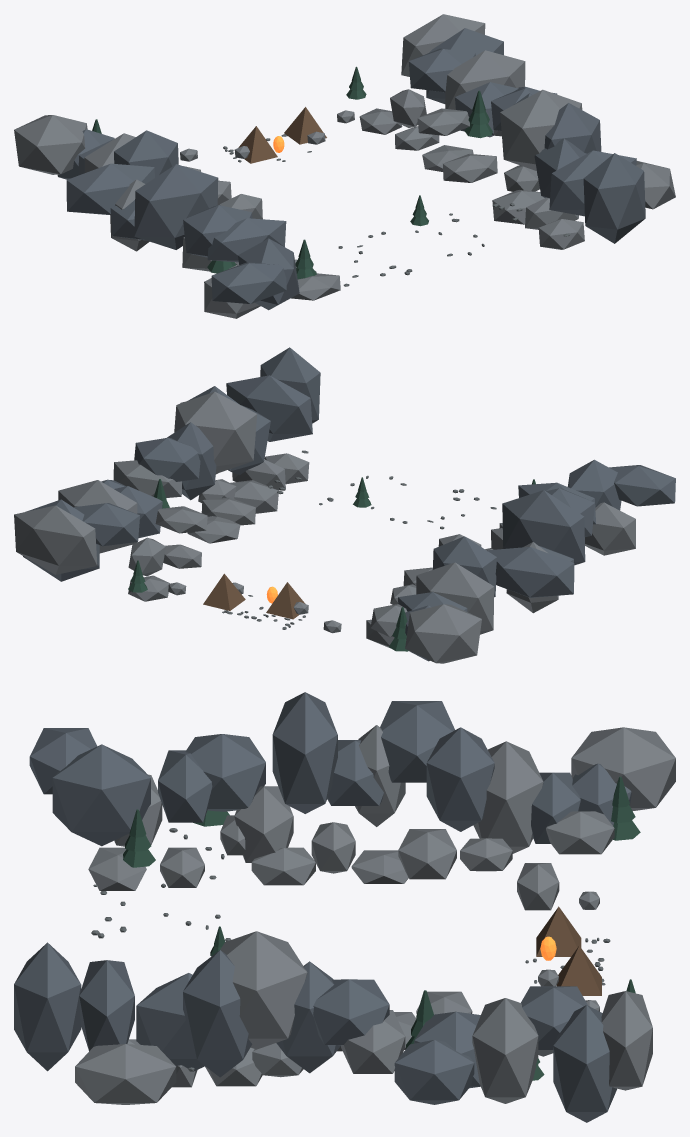
File: cathedral_ground_slice.glb
The picture shows the model from 3 angles, top to bottom: view 1: azimuth 30°, elevation 25°; view 2: azimuth 150°, elevation 25°; view 3: azimuth 270°, elevation 25°; orthographic projection. The views are drawn at different scales.
Parts seen in each view (by area): view 1: massive cliff.008, massive cliff.029, massive cliff, massive cliff.024, massive cliff.005, massive cliff.014, massive cliff.018, massive cliff.028, massive cliff.011, massive cliff.015, massive cliff.010, massive cliff.004 (+28 smaller); view 2: massive cliff.015, massive cliff.008, massive cliff.024, massive cliff, massive cliff.028, massive cliff.005, massive cliff.003, massive cliff.022, massive cliff.014, massive cliff.029, massive cliff.012, massive cliff.017 (+25 smaller); view 3: massive cliff.013, massive cliff.024, massive cliff.029, massive cliff.008, massive cliff.025, massive cliff.018, massive cliff, massive cliff.016, massive cliff.004, massive cliff.027, massive cliff.003, massive cliff.005 (+33 smaller).
Part boxes in pixels (box(x1,y1,x2,y2)): massive cliff.008: box(134, 164, 218, 249); massive cliff.029: box(583, 153, 645, 243); massive cliff: box(14, 115, 87, 174); massive cliff.024: box(500, 89, 582, 170); massive cliff.005: box(66, 163, 154, 214); massive cliff.014: box(211, 262, 286, 303); massive cliff.018: box(445, 50, 525, 109); massive cliff.028: box(549, 150, 636, 216); massive cliff.011: box(207, 218, 286, 262); massive cliff.015: box(401, 14, 485, 76); massive cliff.010: box(183, 205, 252, 257); massive cliff.004: box(114, 130, 178, 177); massive cliff.015: box(14, 505, 97, 574); massive cliff.008: box(502, 490, 585, 565); massive cliff.024: box(174, 391, 257, 473); massive cliff: box(405, 604, 481, 663); massive cliff.028: box(226, 375, 312, 441); massive cliff.005: box(487, 547, 574, 597); massive cliff.003: box(416, 562, 494, 634); massive cliff.022: box(134, 437, 200, 481); massive cliff.014: box(609, 465, 675, 506); massive cliff.029: box(260, 347, 320, 423); massive cliff.012: box(585, 502, 635, 555); massive cliff.017: box(74, 503, 139, 546); massive cliff.013: box(52, 744, 150, 846); massive cliff.024: box(220, 931, 307, 1049); massive cliff.029: box(14, 942, 81, 1071); massive cliff.008: box(272, 692, 337, 813); massive cliff.025: box(183, 950, 252, 1077); massive cliff.018: box(472, 998, 538, 1103); massive cliff: box(571, 727, 675, 810); massive cliff.016: box(553, 1005, 616, 1122); massive cliff.004: box(426, 727, 494, 831); massive cliff.027: box(75, 1044, 176, 1104); massive cliff.003: box(473, 741, 543, 853); massive cliff.005: box(380, 701, 454, 782).
Size of the model in its own units: 79.69 by 18.47 by 64.45.
